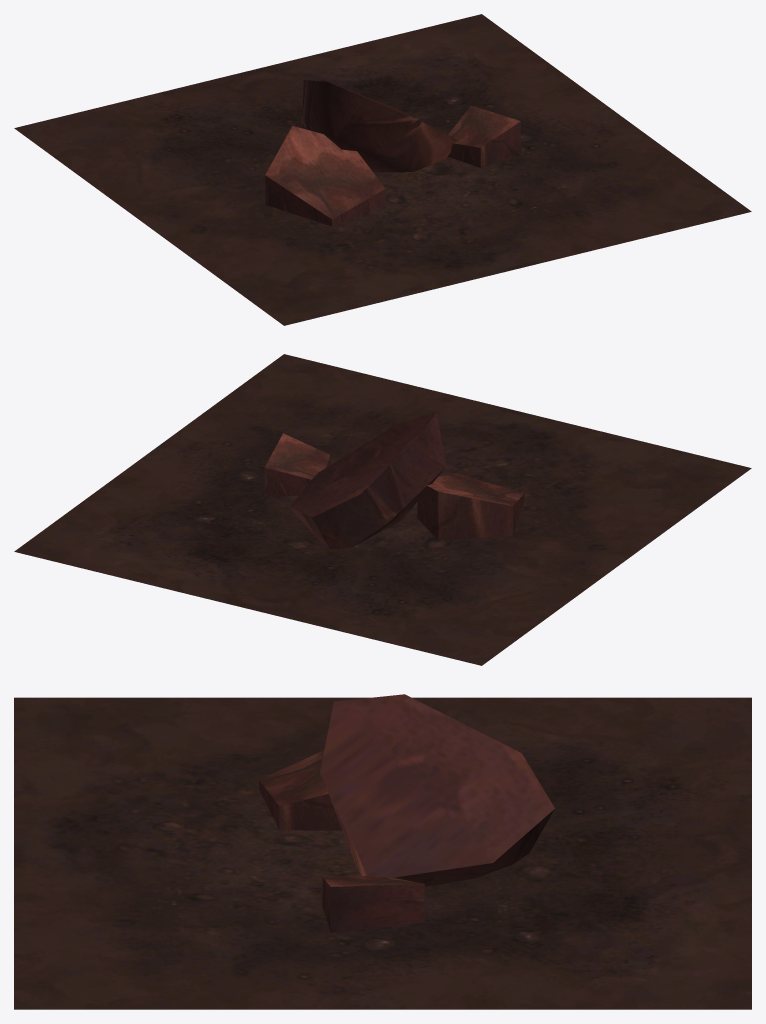
Rendered from lava_rubble_01.fbx.
The picture shows the model from 3 angles, top to bottom: view 1: azimuth 30°, elevation 25°; view 2: azimuth 150°, elevation 25°; view 3: azimuth 270°, elevation 25°; orthographic projection. The views are drawn at different scales.
Visible parts, largest first — view 1: lava_rubble_01-0; view 2: lava_rubble_01-0; view 3: lava_rubble_01-0.
Part boxes in pixels (x1=…): lava_rubble_01-0: x1=14, y1=14, x2=751, y2=325; lava_rubble_01-0: x1=14, y1=354, x2=751, y2=665; lava_rubble_01-0: x1=14, y1=694, x2=751, y2=1009.
Size of the model in its own units: 4 by 1.11 by 4.
